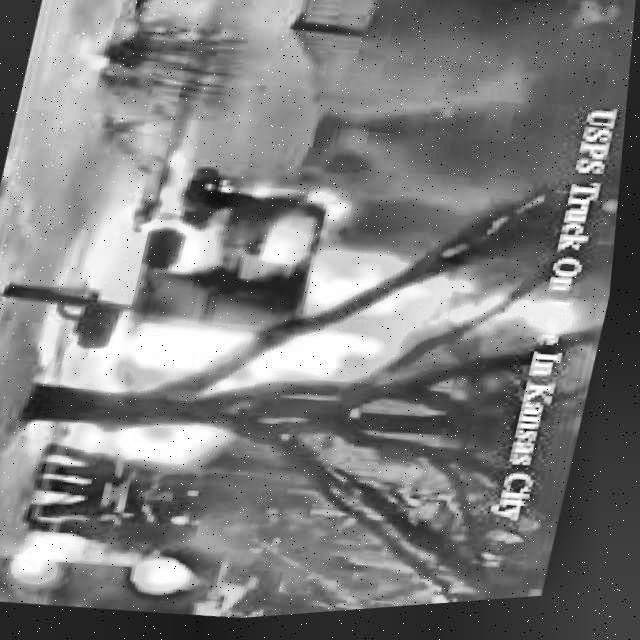Fire: (82, 172, 581, 521)
